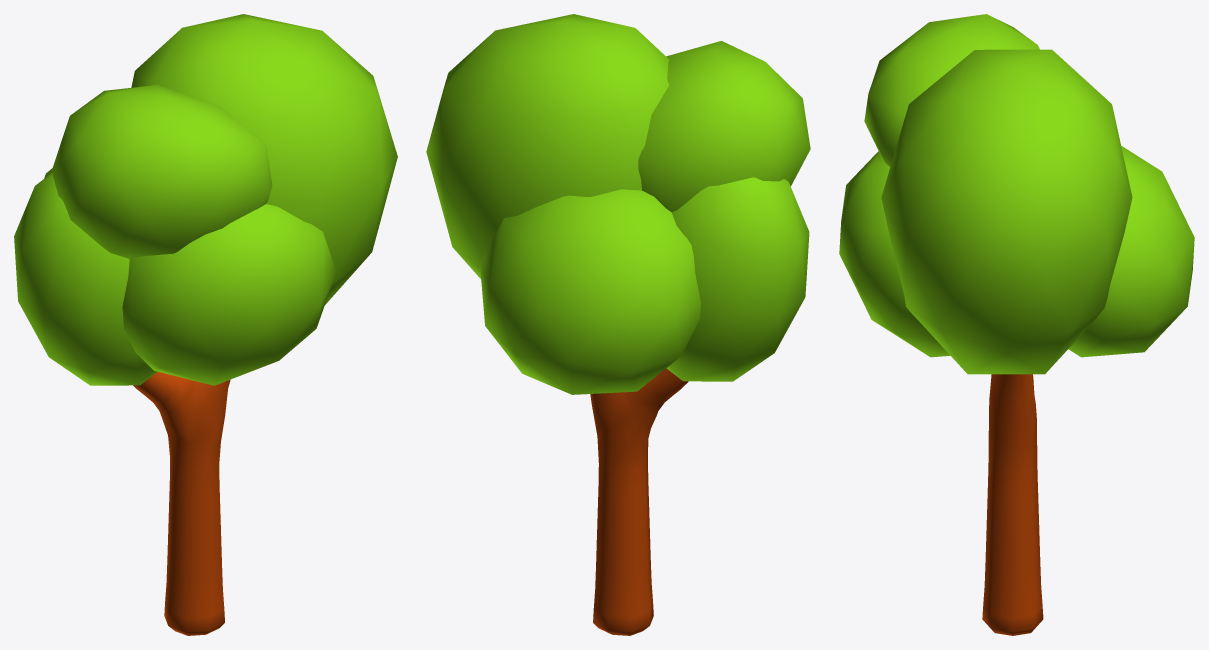
File: Tree002.fbx
3 renders of one model, left to right at view 1: azimuth 30°, elevation 25°; view 2: azimuth 150°, elevation 25°; view 3: azimuth 270°, elevation 25°, orthographic.
Visible parts, largest first — view 1: Plane.001; view 2: Plane.001; view 3: Plane.001.
Boxes of the visible parts, x1=… form: Plane.001: x1=14, y1=14, x2=397, y2=635; Plane.001: x1=426, y1=14, x2=810, y2=635; Plane.001: x1=839, y1=14, x2=1194, y2=635.
Size of the model in its own units: 283 by 452 by 246.
1 material, 1 textured.
